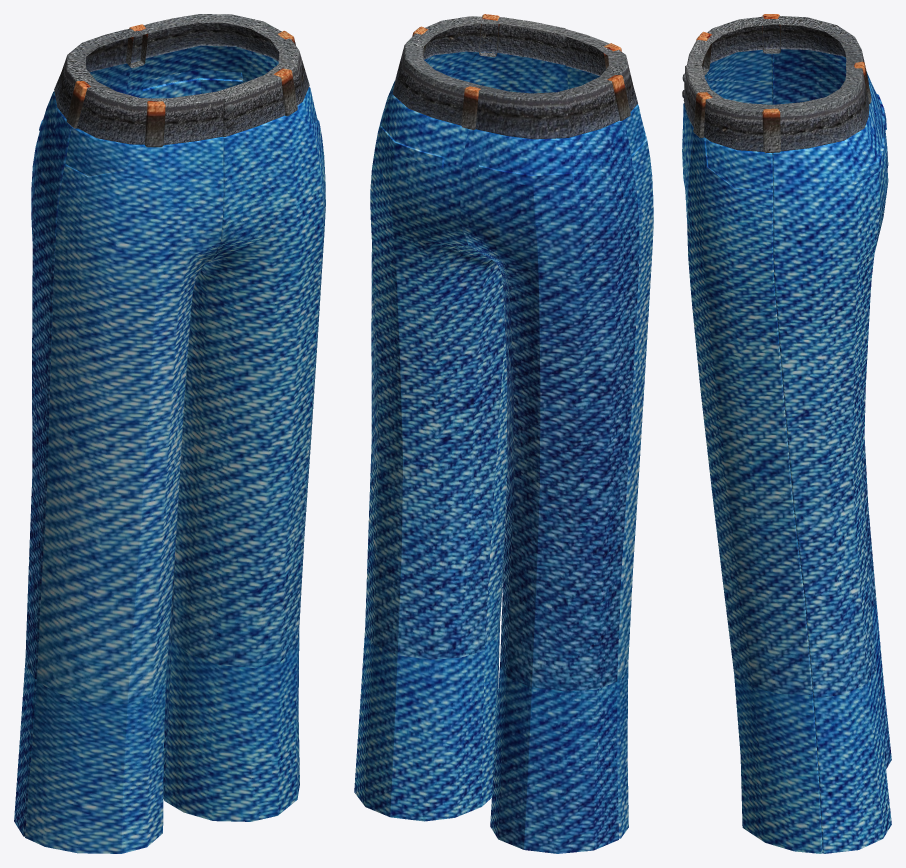
The model's file is down_1.fbx.
3 views of the same model, side by side, from view 1: azimuth 30°, elevation 25°; view 2: azimuth 150°, elevation 25°; view 3: azimuth 270°, elevation 25° (orthographic). The views are drawn at different scales.
Parts seen in each view (by area): view 1: BTM_LONG_001; view 2: BTM_LONG_001; view 3: BTM_LONG_001.
Boxes of the visible parts, x1=… form: BTM_LONG_001: x1=14, y1=14, x2=325, y2=853; BTM_LONG_001: x1=354, y1=14, x2=653, y2=853; BTM_LONG_001: x1=682, y1=14, x2=891, y2=853.
Bounding box in the file's own units: 19.09 × 52.48 × 13.66.
1 material, 1 textured.
